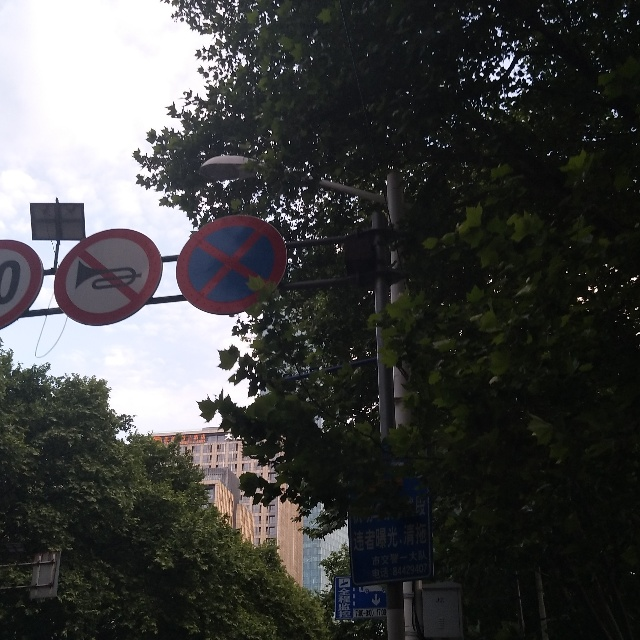nohonk: (54, 227, 163, 325)
stop: (176, 215, 287, 315)
